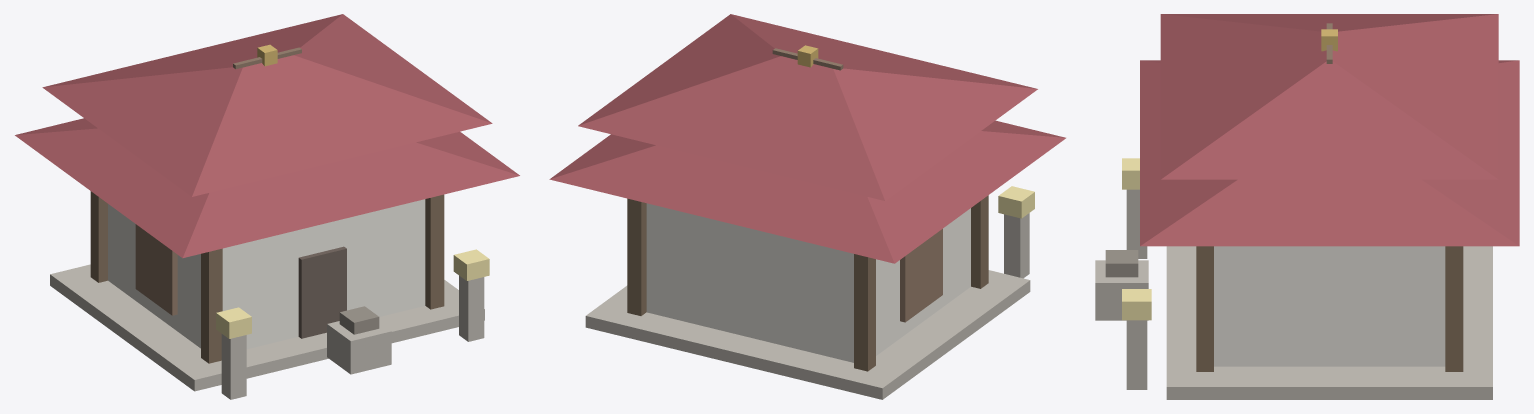
File: landmark_temple.glb
The picture shows the model from 3 angles, left to right: view 1: azimuth 30°, elevation 25°; view 2: azimuth 150°, elevation 25°; view 3: azimuth 270°, elevation 25°; orthographic projection. The views are drawn at different scales.
Size of the model in its own units: 7.42 by 5.34 by 7.15.
